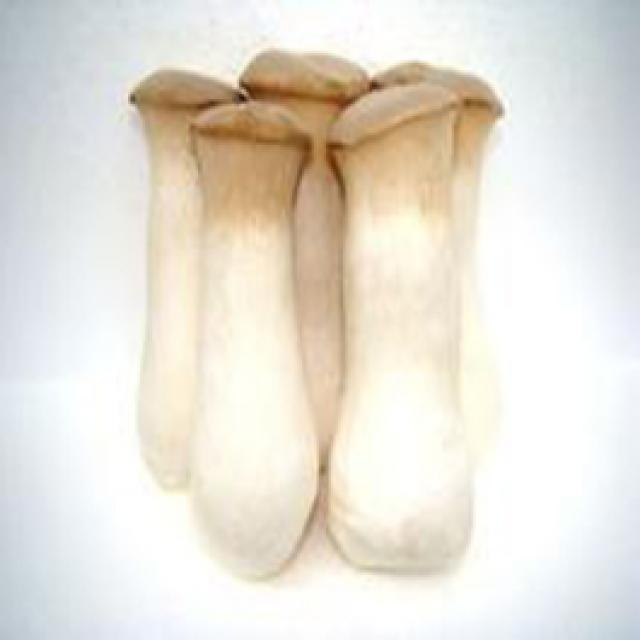Pleurotus eryngii: (131, 47, 504, 576)
